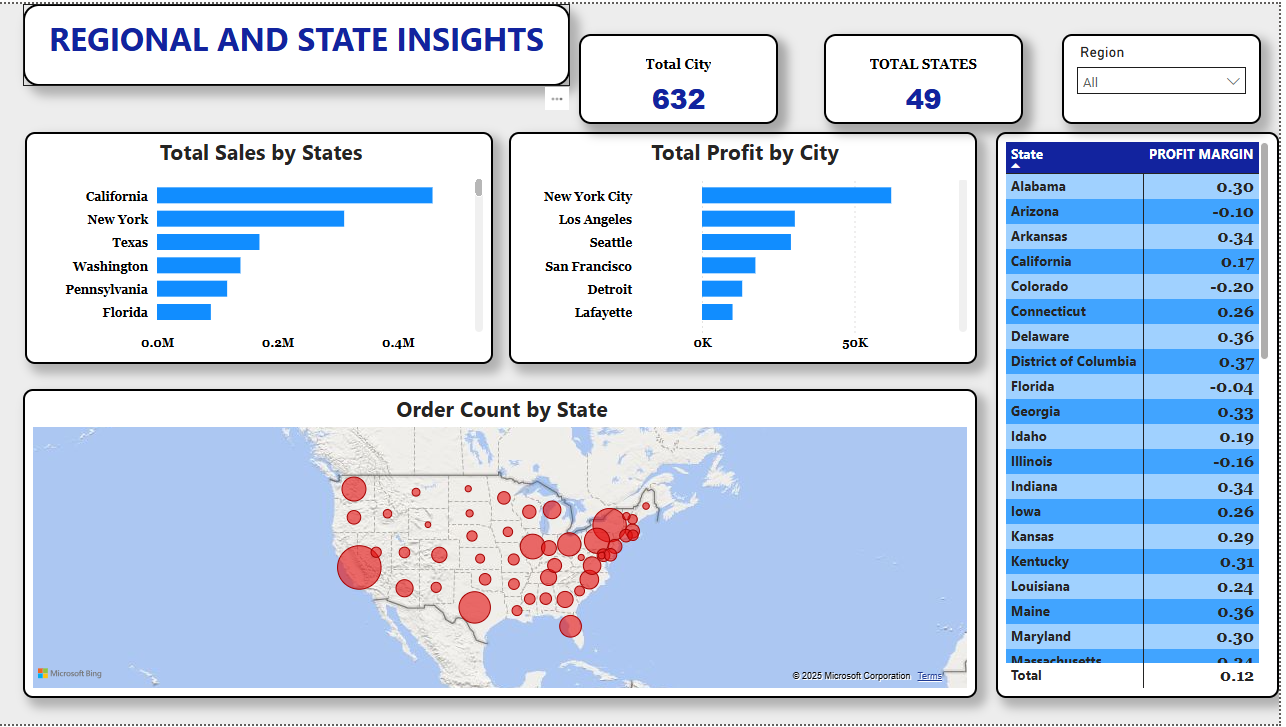

This screenshot's page, from the dashboard's own definition file:
{"tool":"powerbi","page":{"name":"Regional and State Insights","canvas":[1280,720],"ordinal":2},"visuals":[{"type":"clusteredBarChart","title":"Total Sales by States","fields":{"Category":["States.State"],"Y":["Orders.TOTAL SALES"]},"box":[26,128,468,232],"z":0},{"type":"clusteredBarChart","title":"Total Profit by City","fields":{"Category":["Locations.City"],"Y":["Orders.TOTAL PROFIT"]},"box":[510,128,468,232],"z":1000},{"type":"pivotTable","fields":{"Rows":["States.State"],"Values":["Orders.PROFIT MARGIN"]},"box":[997,128,283,566],"z":2000},{"type":"map","title":"Order Count by State","fields":{"Size":["Orders.Order Count"],"Category":["States.State"]},"box":[24,385,954,309],"z":3000},{"type":"textbox","box":[24,0,547,82],"z":4000},{"type":"cardVisual","fields":{"Data":["States.TOTAL STATES"]},"box":[825,30,199,90],"z":5000},{"type":"slicer","fields":{"Values":["States.Region"]},"box":[1063,30,199,90],"z":6000},{"type":"cardVisual","fields":{"Data":["Locations.Total City"]},"box":[580,30,199,90],"z":7000}]}

Visuals, with their boxes in screenshot pixels (x1, y1, x2, y2), scaled from the page's 1280x720 canvas onto the 1286x727 screenshot:
"Total Sales by States" clusteredBarChart: (left=26, top=129, right=496, bottom=364)
"Total Profit by City" clusteredBarChart: (left=512, top=129, right=983, bottom=364)
pivotTable - States.State x Orders.PROFIT MARGIN: (left=1002, top=129, right=1285, bottom=701)
"Order Count by State" map: (left=24, top=389, right=983, bottom=701)
textbox: (left=24, top=0, right=574, bottom=83)
cardVisual - States.TOTAL STATES: (left=829, top=30, right=1029, bottom=121)
slicer - States.Region: (left=1068, top=30, right=1268, bottom=121)
cardVisual - Locations.Total City: (left=583, top=30, right=783, bottom=121)
